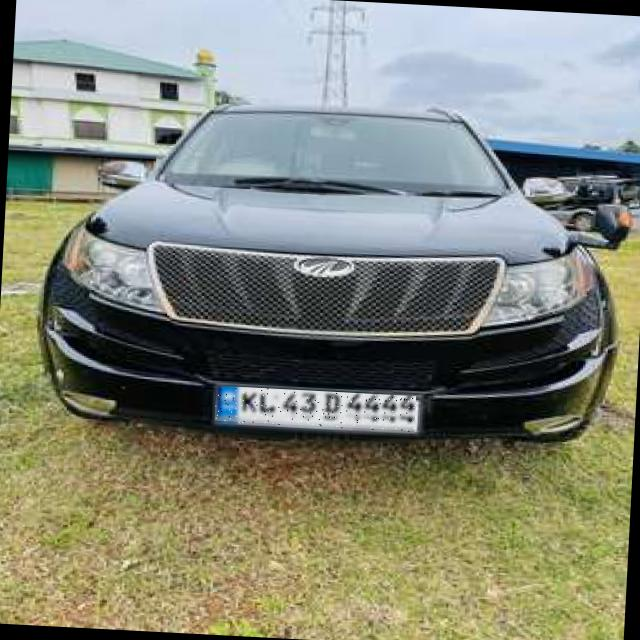Plate: (216, 388, 418, 434)
